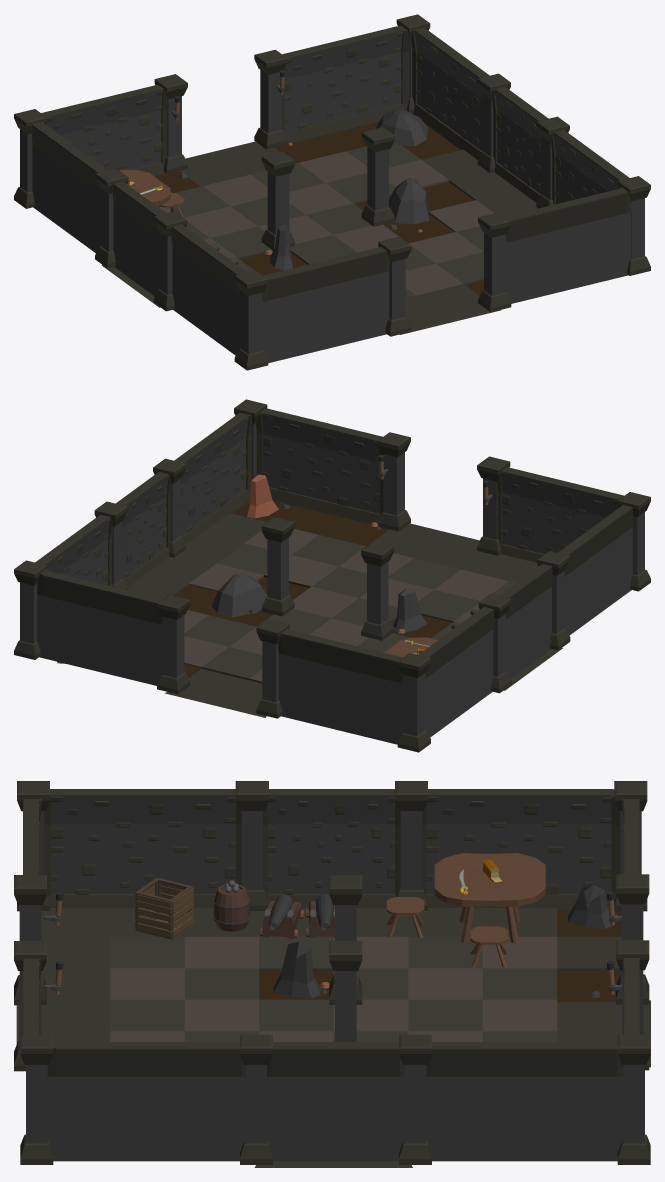
Rendered from Level2Room2.fbx.
3 renders of one model, top to bottom at view 1: azimuth 30°, elevation 25°; view 2: azimuth 150°, elevation 25°; view 3: azimuth 270°, elevation 25°, orthographic. The views are drawn at different scales.
Visible parts, largest first — view 1: StonePiller.009, RoomFloor.006, LargeRock1.026, LargeRock1.028, Table.006, LargeRock1.023; view 2: StonePiller.009, RoomFloor.006, LargeRock1.026, LargeRock1.025, LargeRock1.023, Table.006; view 3: StonePiller.009, RoomFloor.006, Table.006, Crate.010, LargeRock1.023, Barrel.024, Cannon.010, LargeRock1.027, Cannon.009, Stool.017, Stool.015.
Boxes of the visible parts, x1=… form: StonePiller.009: x1=14, y1=14, x2=650, y2=370; RoomFloor.006: x1=101, y1=121, x2=537, y2=334; LargeRock1.026: x1=389, y1=178, x2=429, y2=224; LargeRock1.028: x1=376, y1=109, x2=427, y2=146; Table.006: x1=119, y1=169, x2=170, y2=206; LargeRock1.023: x1=270, y1=224, x2=292, y2=270; StonePiller.009: x1=14, y1=399, x2=650, y2=752; RoomFloor.006: x1=128, y1=500, x2=562, y2=717; LargeRock1.026: x1=212, y1=573, x2=267, y2=617; LargeRock1.025: x1=244, y1=474, x2=278, y2=518; LargeRock1.023: x1=393, y1=588, x2=427, y2=631; Table.006: x1=383, y1=637, x2=437, y2=657; StonePiller.009: x1=14, y1=781, x2=650, y2=1164; RoomFloor.006: x1=16, y1=908, x2=650, y2=1167; Table.006: x1=434, y1=853, x2=545, y2=943; Crate.010: x1=135, y1=877, x2=193, y2=939; LargeRock1.023: x1=273, y1=942, x2=321, y2=998; Barrel.024: x1=213, y1=884, x2=250, y2=931; Cannon.010: x1=259, y1=894, x2=304, y2=938; LargeRock1.027: x1=568, y1=885, x2=615, y2=928; Cannon.009: x1=305, y1=894, x2=334, y2=937; Stool.017: x1=470, y1=926, x2=508, y2=967; Stool.015: x1=386, y1=897, x2=424, y2=938.
Size of the model in its own units: 797 by 176 by 799.
